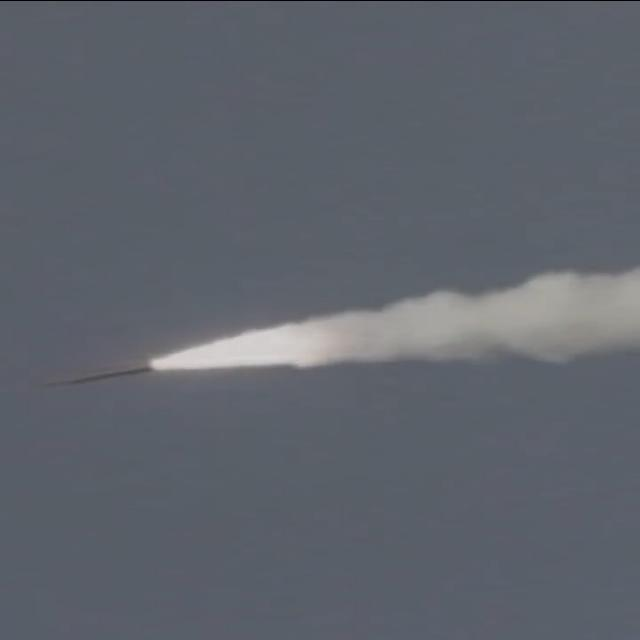missile: (46, 362, 154, 389)
